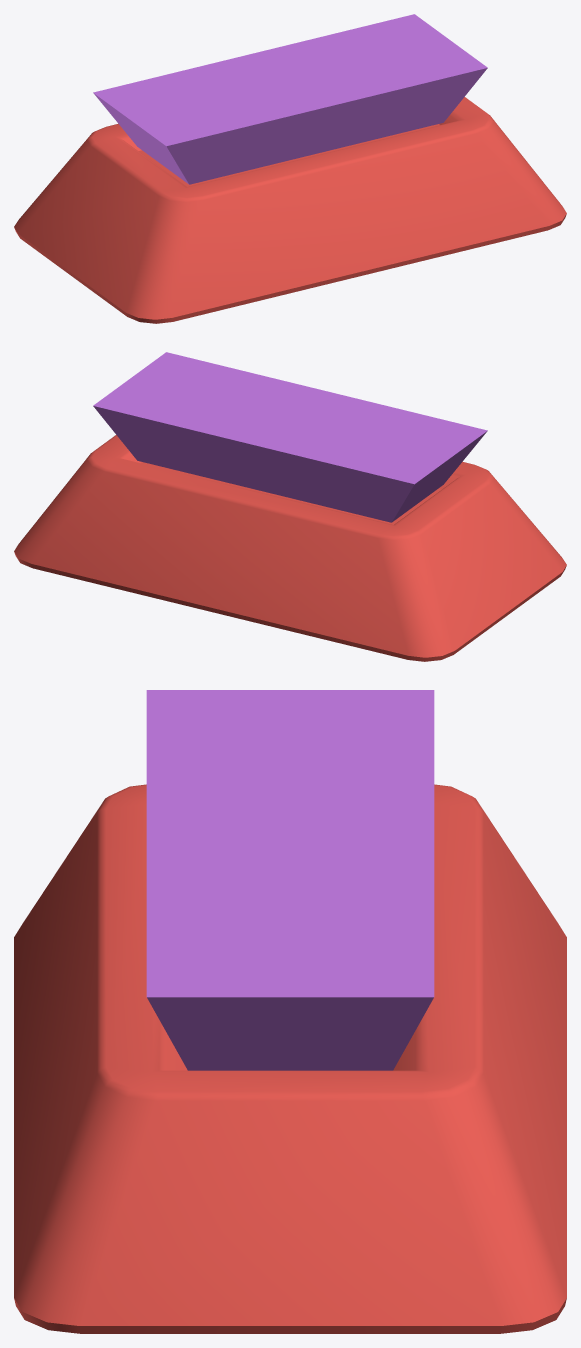
The model's file is SciFi_Prop_02.fbx.
The picture shows the model from 3 angles, top to bottom: view 1: azimuth 30°, elevation 25°; view 2: azimuth 150°, elevation 25°; view 3: azimuth 270°, elevation 25°; orthographic projection. The views are drawn at different scales.
Parts seen in each view (by area): view 1: SciFi_Prop_02; view 2: SciFi_Prop_02; view 3: SciFi_Prop_02.
Part boxes in pixels (left/top/right/bottom): SciFi_Prop_02: left=14, top=14, right=566, bottom=323; SciFi_Prop_02: left=14, top=352, right=566, bottom=661; SciFi_Prop_02: left=14, top=690, right=566, bottom=1333.
Bounding box in the file's own units: 201 × 63.76 × 113.
